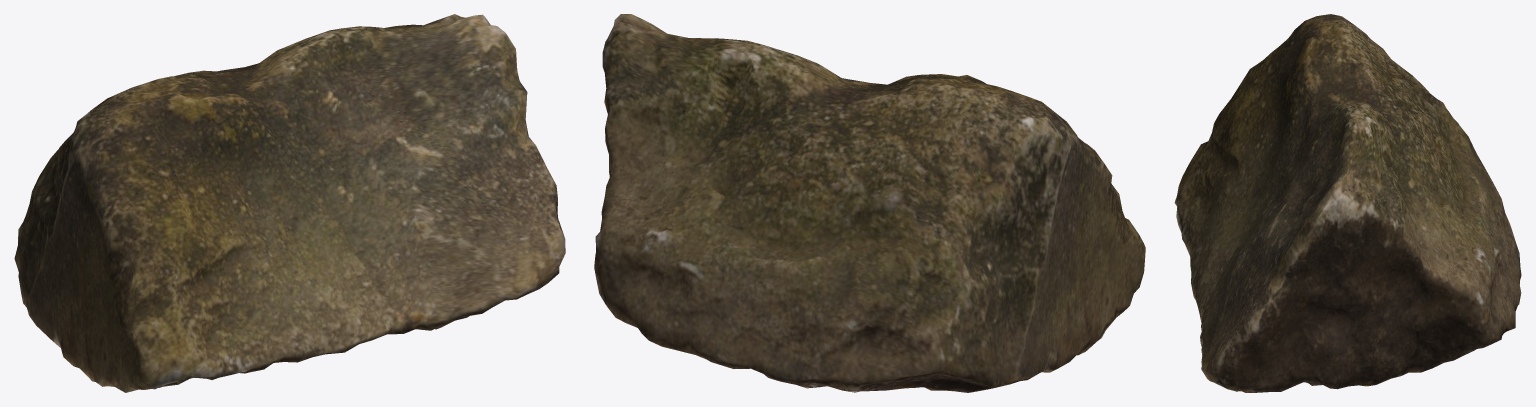
File: stone_round.glb
The picture shows the model from 3 angles, left to right: view 1: azimuth 30°, elevation 25°; view 2: azimuth 150°, elevation 25°; view 3: azimuth 270°, elevation 25°; orthographic projection. The views are drawn at different scales.
Visible parts, largest first — view 1: stone_round; view 2: stone_round; view 3: stone_round.
Boxes of the visible parts, bbox=[...] form: stone_round: bbox=[14, 14, 565, 392]; stone_round: bbox=[594, 14, 1145, 392]; stone_round: bbox=[1174, 14, 1521, 392].
Size of the model in its own units: 0.135 by 0.077 by 0.099.
1 material, 1 textured.
